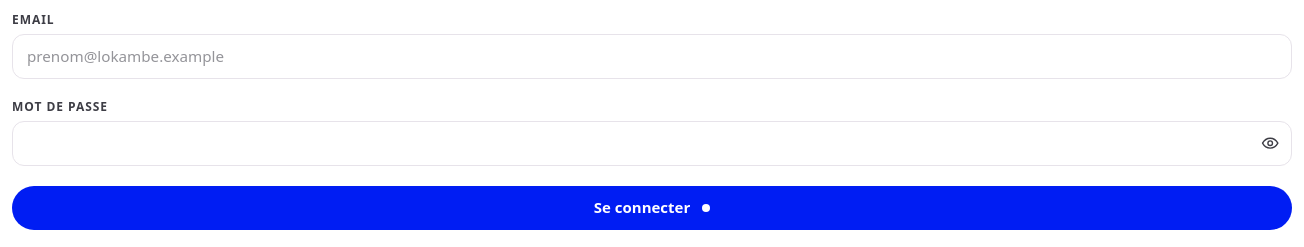
Test: LoginForm › révèle puis recache le mot de passe sans perdre ce qui est saisi
This screenshot has width=1304, height=247.
Type "secret-a-cacher" into the password field labelled "Mot de passe" at (652,143), box [12,121,1292,166]
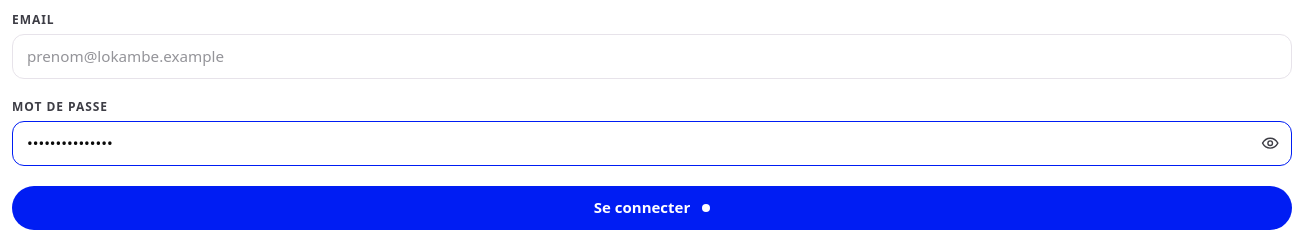
Click the button named "Afficher le mot de passe" at (1270,143), box [1248,121,1292,166]
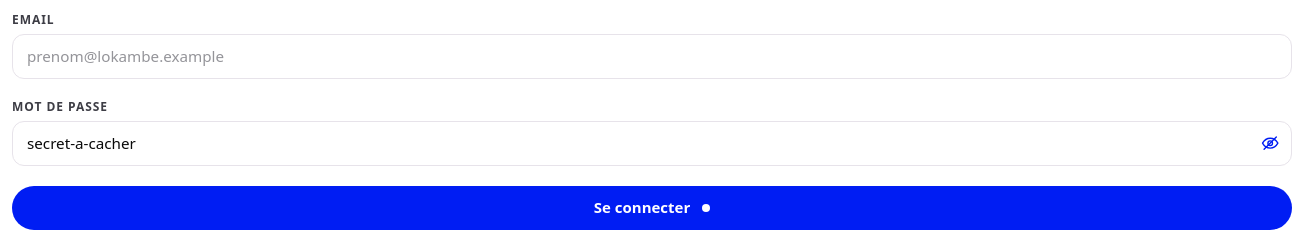
Now the field labelled "Mot de passe" shows its text, box [12,121,1292,166]
Click the button named "Masquer le mot de passe" at (1270,143), box [1248,121,1292,166]
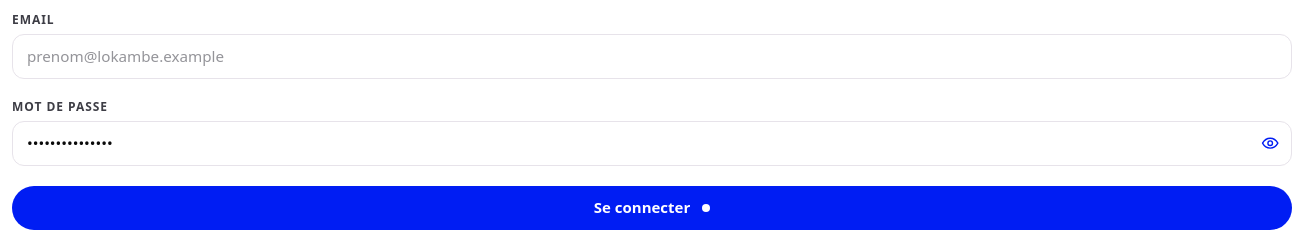
Now the password field labelled "Mot de passe" hides its text, box [12,121,1292,166]
